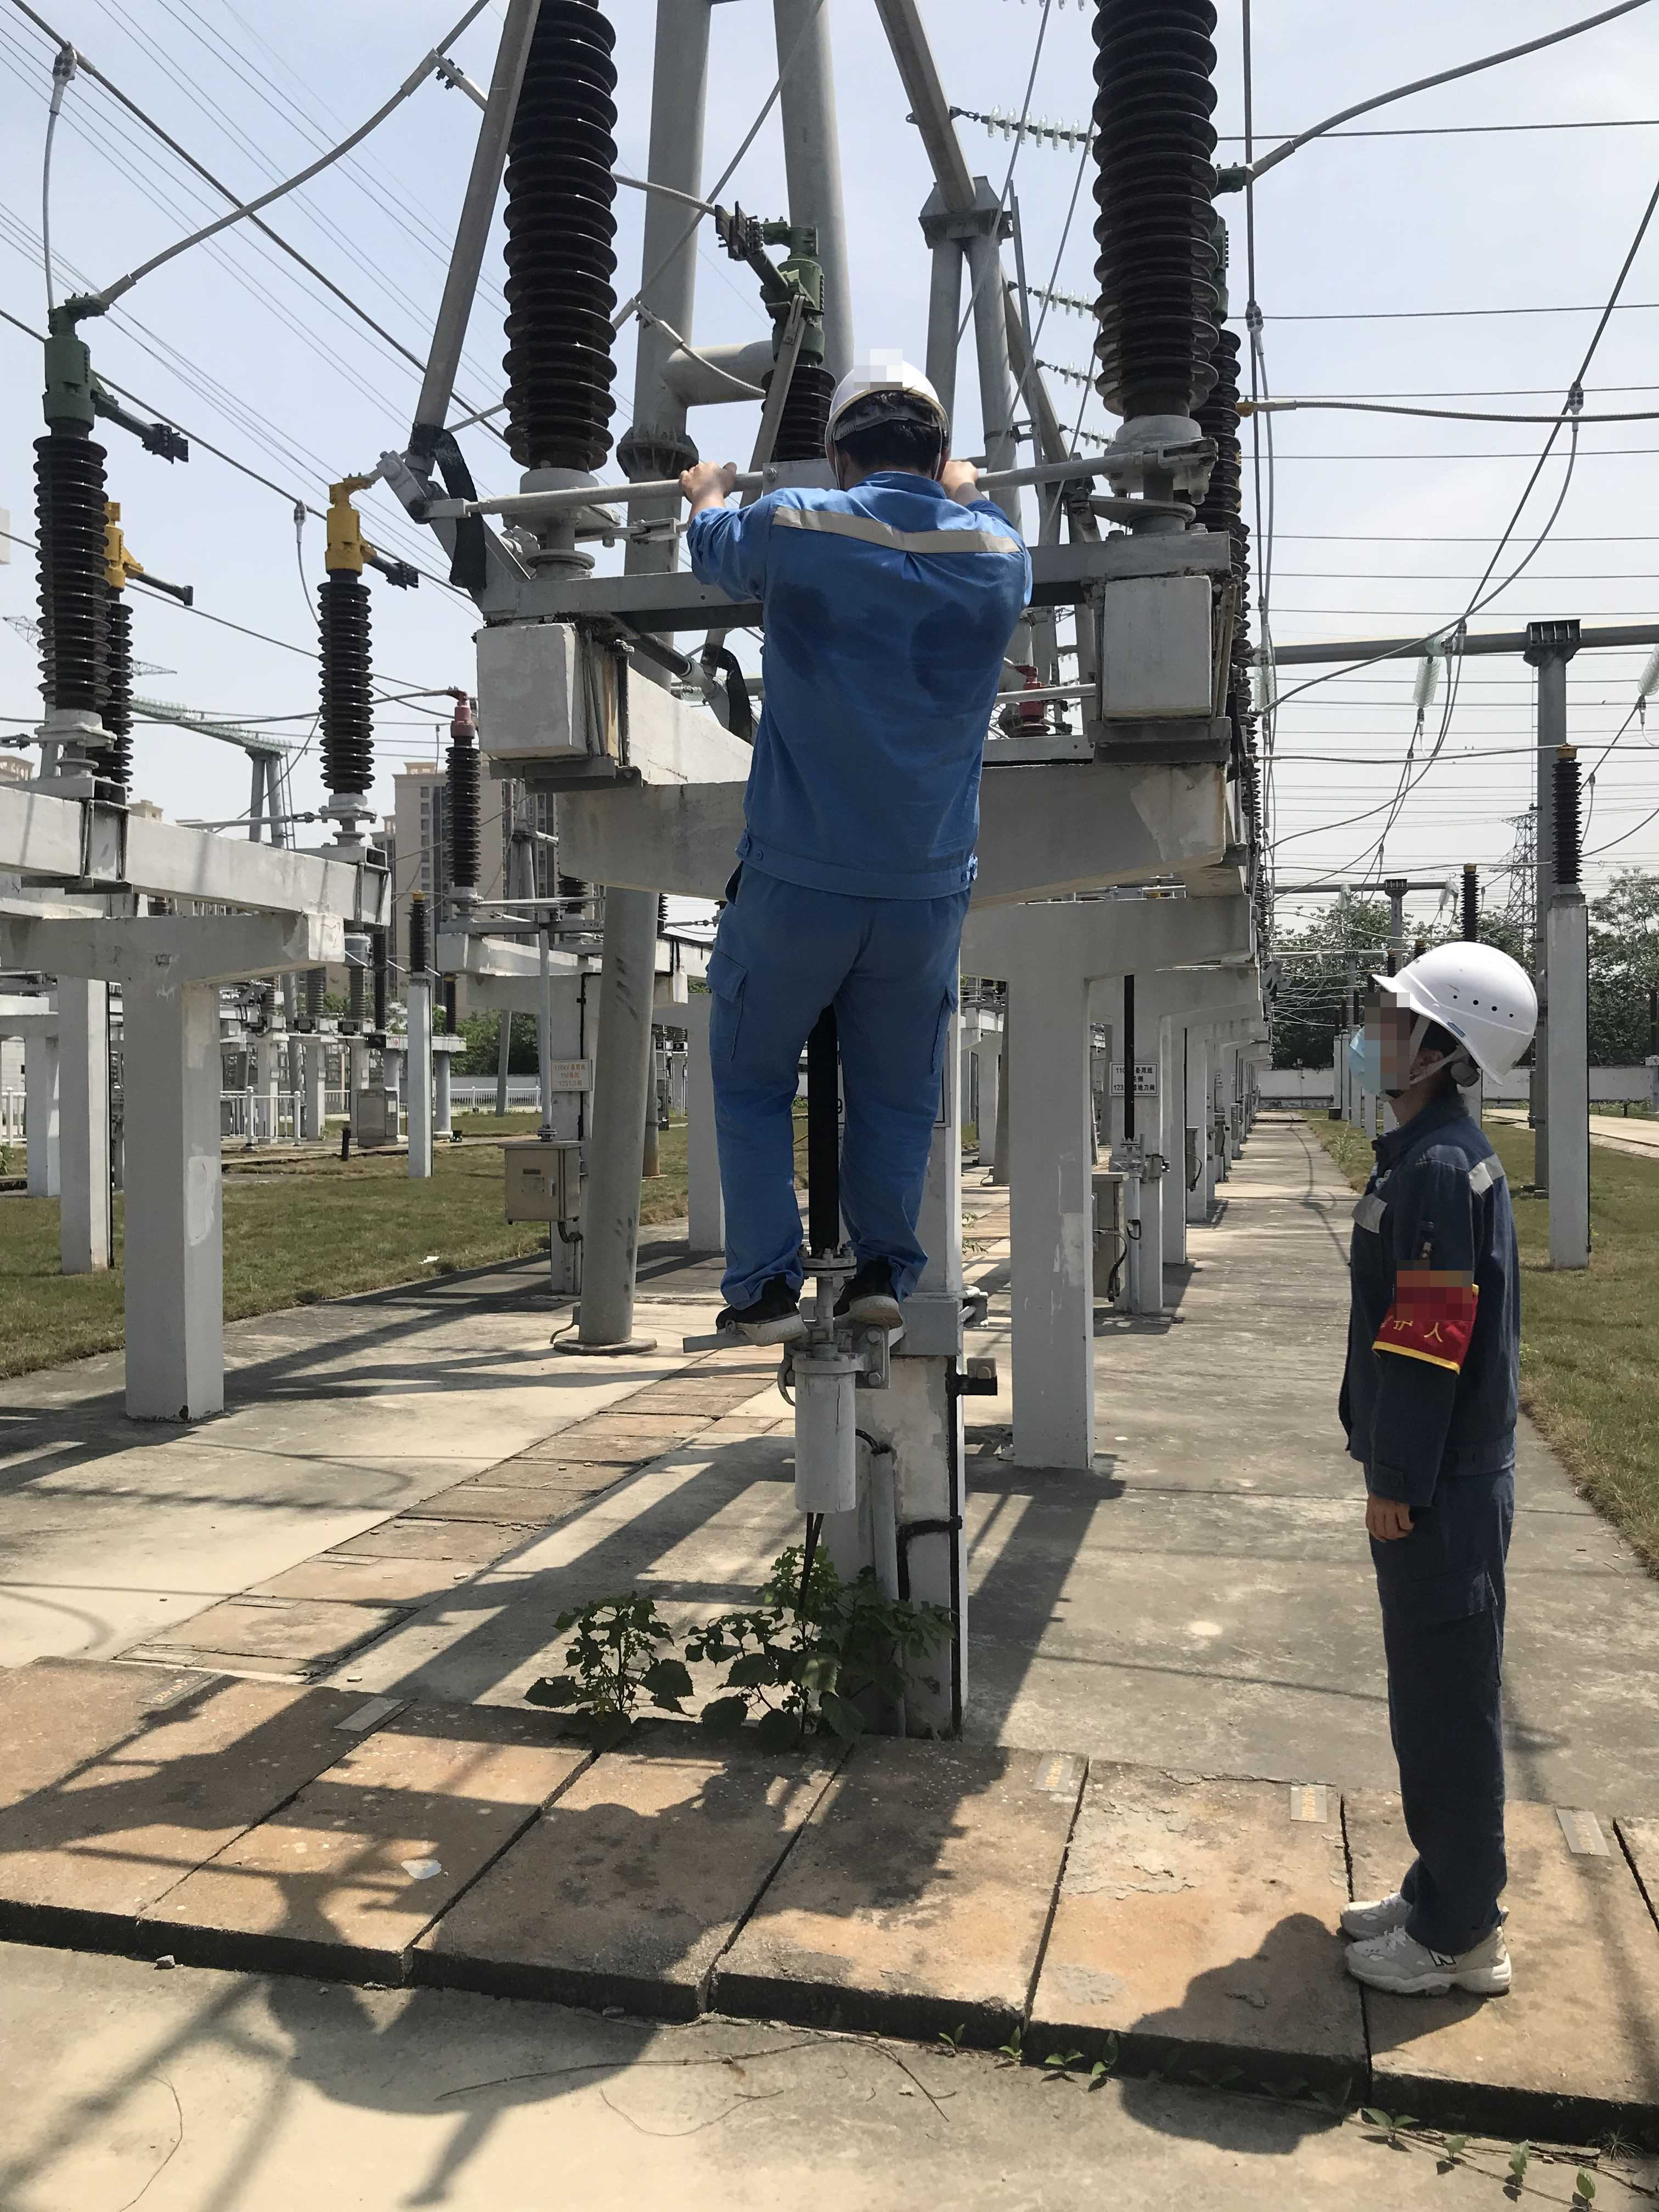downsuit: (704, 911, 960, 1289), (1364, 1493, 1521, 1926)
upsuit: (678, 469, 1042, 892), (1342, 1104, 1514, 1484)
wrongtop: (681, 462, 739, 528), (939, 462, 1002, 514)
